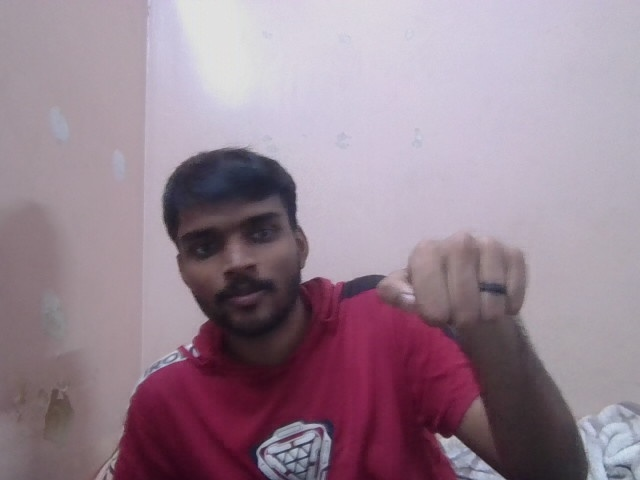Yes: (375, 230, 538, 322)
